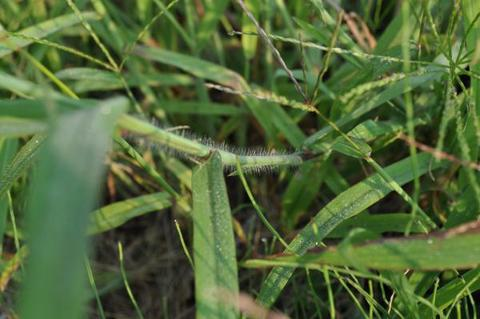crabgrass: (2, 6, 479, 314)
